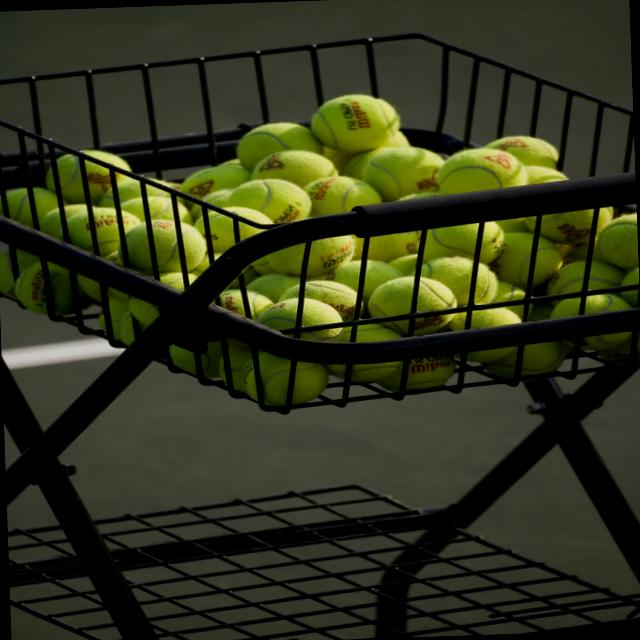Tennis Ball: (0, 85, 640, 415)
